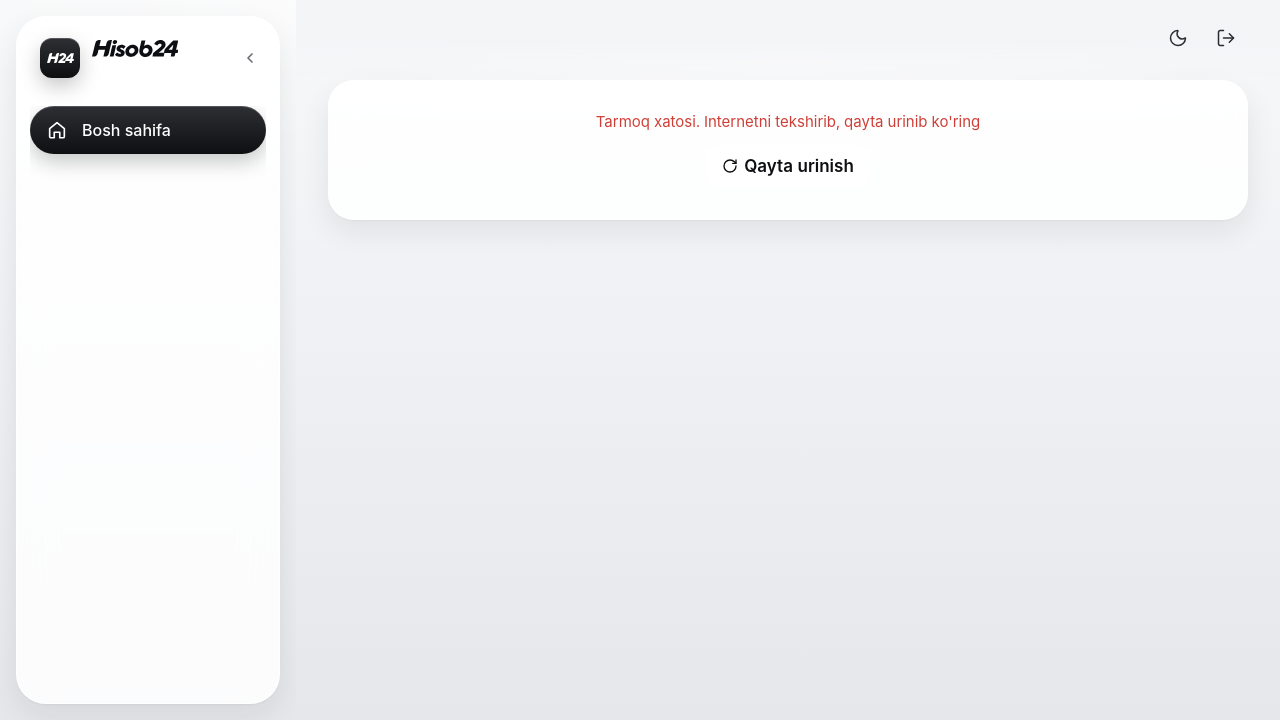
Scenario: a session that fails to load says why and can be asked for again
Expected: the text "Tarmoq xatosi. Internetni tekshirib, qayta urinib ko'ring" is shown, [596,112,980,132]
Expected: the text "Sahifa mazmuni" is not shown
Click the button "Qayta urinish": (788, 166) [705,144,871,188]
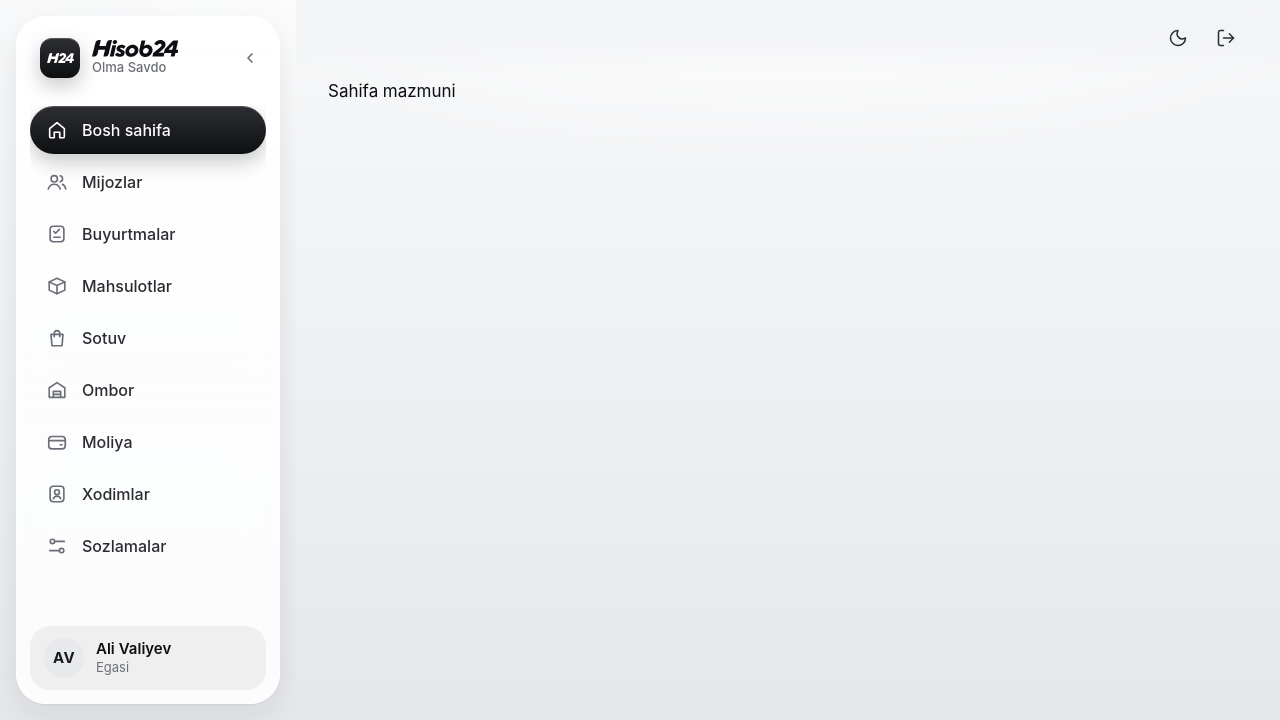
Expected: the text "Sahifa mazmuni" is shown, [328,81,456,101]
